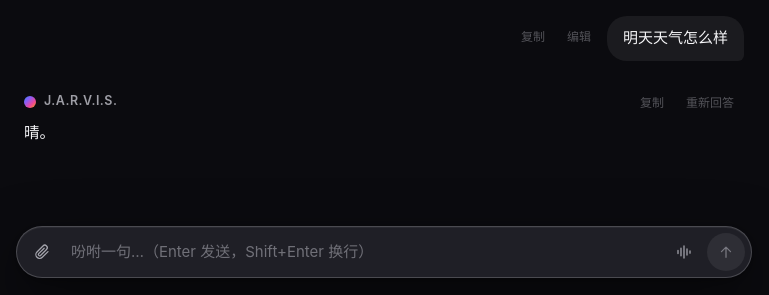
消息级操作 › 用户消息可编辑重发：点「编辑」把原文填回输入框
Click the button titled "编辑后重新发送" at (579, 35), box [557,22,601,48]
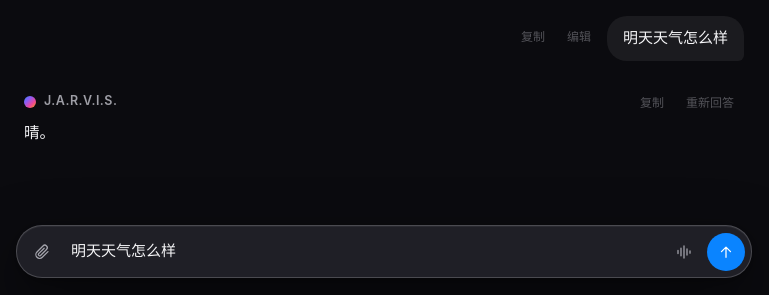
Expected: the text box with placeholder "吩咐一句…（Enter 发送，Shift+Enter 换行）" holds "明天天气怎么样", [65,232,661,271]
